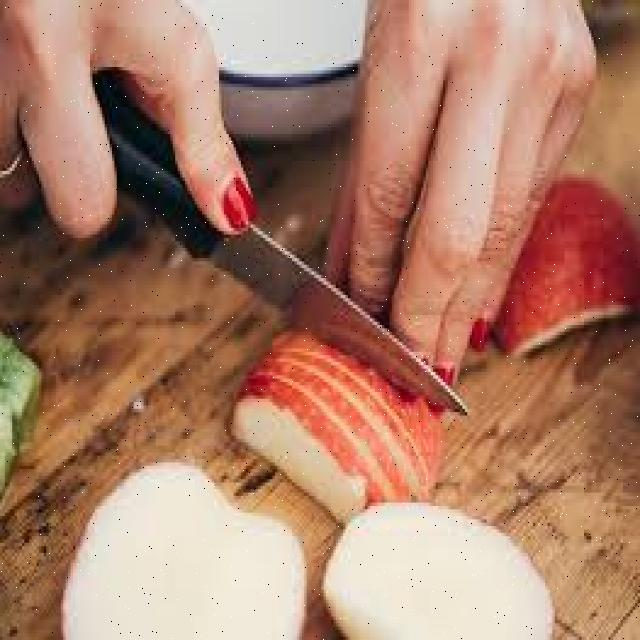Apple: (58, 452, 310, 640), (318, 505, 564, 640), (503, 184, 640, 349), (225, 386, 374, 526)
